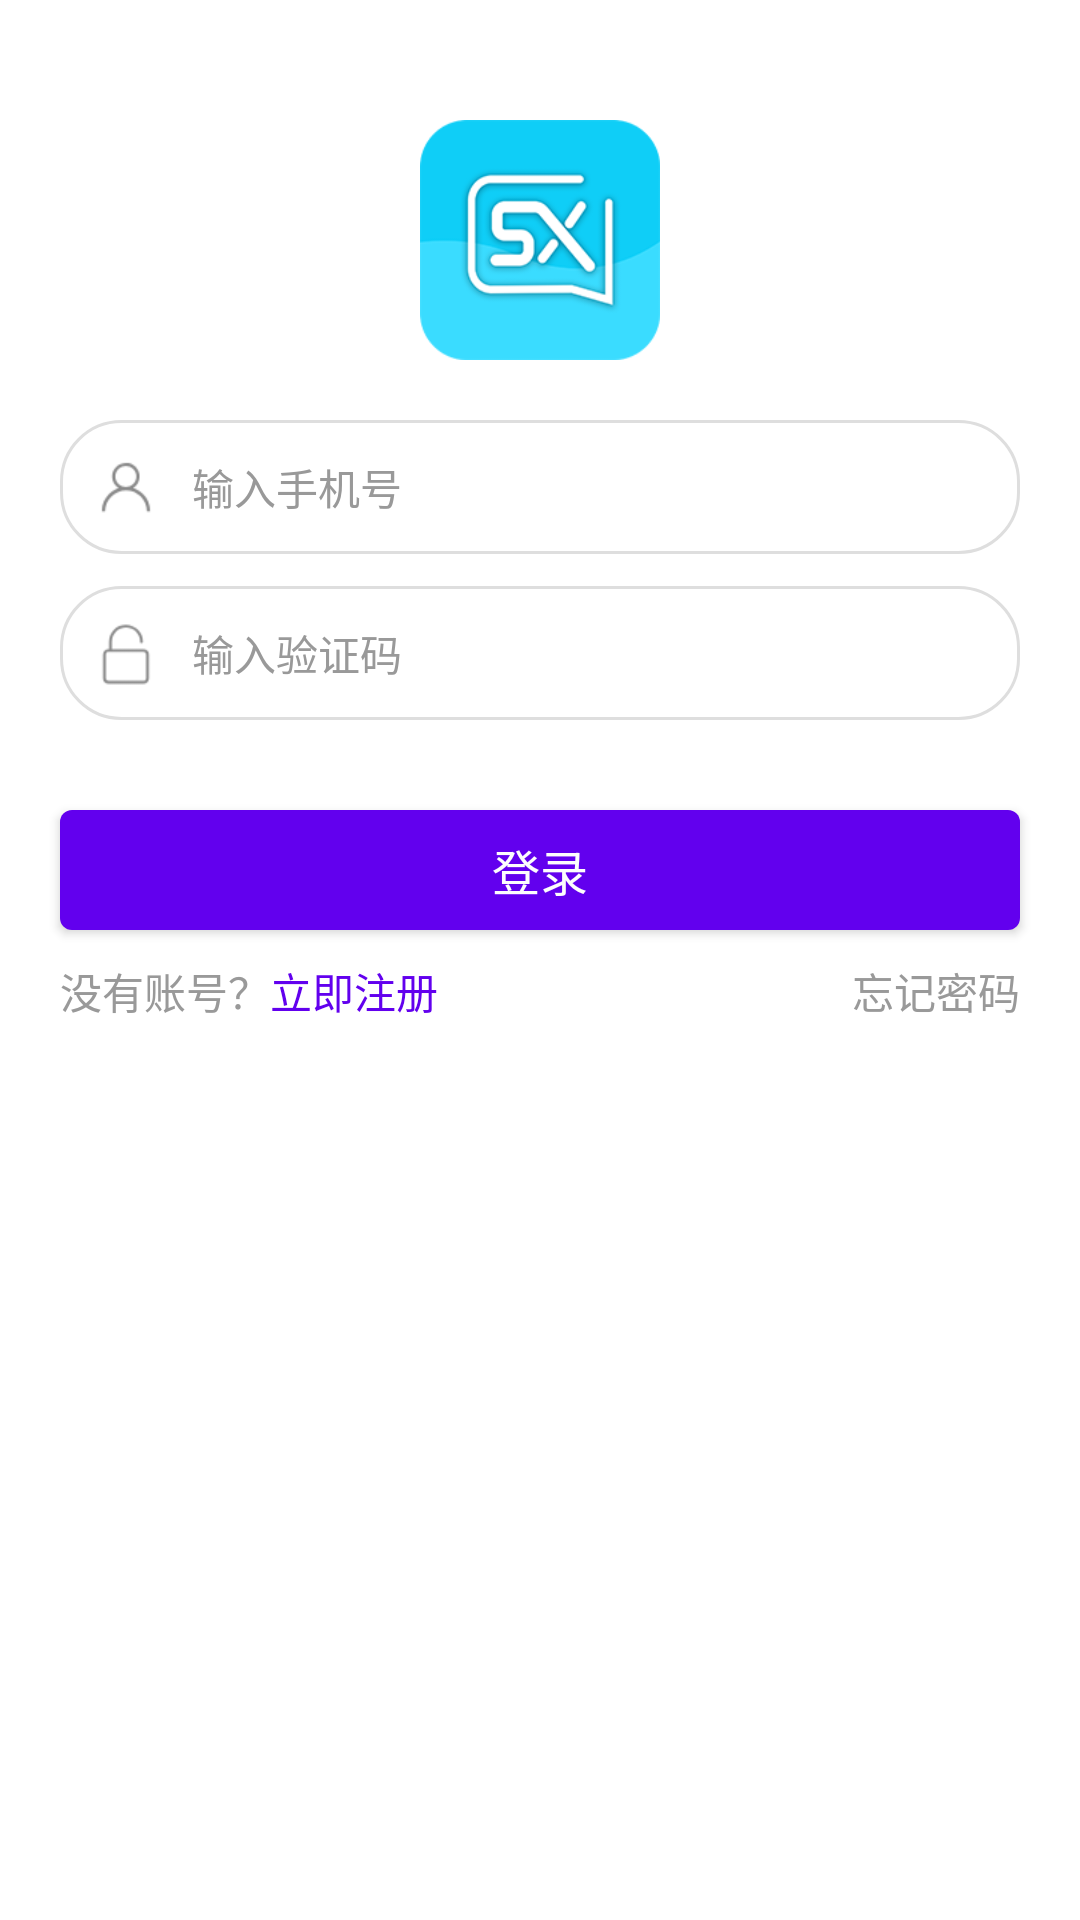

Where to tap for icons on this 1080x1920 app screen, as [x,y]:
account: [126,487]
